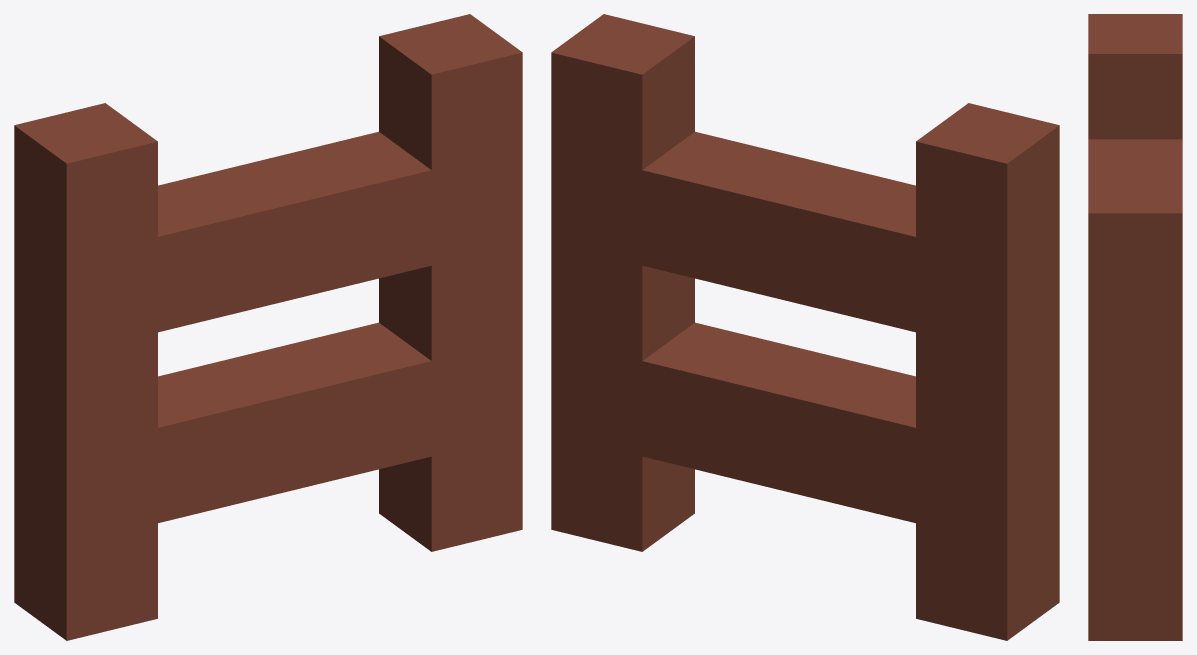
The model's file is valla.fbx.
3 renders of one model, left to right at view 1: azimuth 30°, elevation 25°; view 2: azimuth 150°, elevation 25°; view 3: azimuth 270°, elevation 25°, orthographic. The views are drawn at different scales.
Visible parts, largest first — view 1: Valla; view 2: Valla; view 3: Valla.
Boxes of the visible parts, <box> form: Valla: <box>14,14,522,640</box>; Valla: <box>551,14,1059,640</box>; Valla: <box>1088,14,1182,640</box>.
Size of the model in its own units: 0.5 by 0.5 by 0.1.
1 material, 1 textured.
